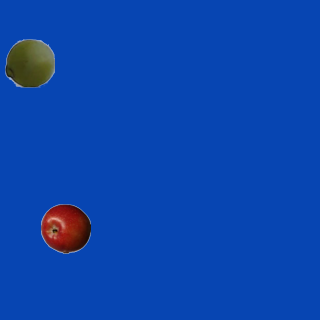Apple Braeburn: (40, 203, 90, 253)
Grape White 4: (4, 37, 54, 87)
